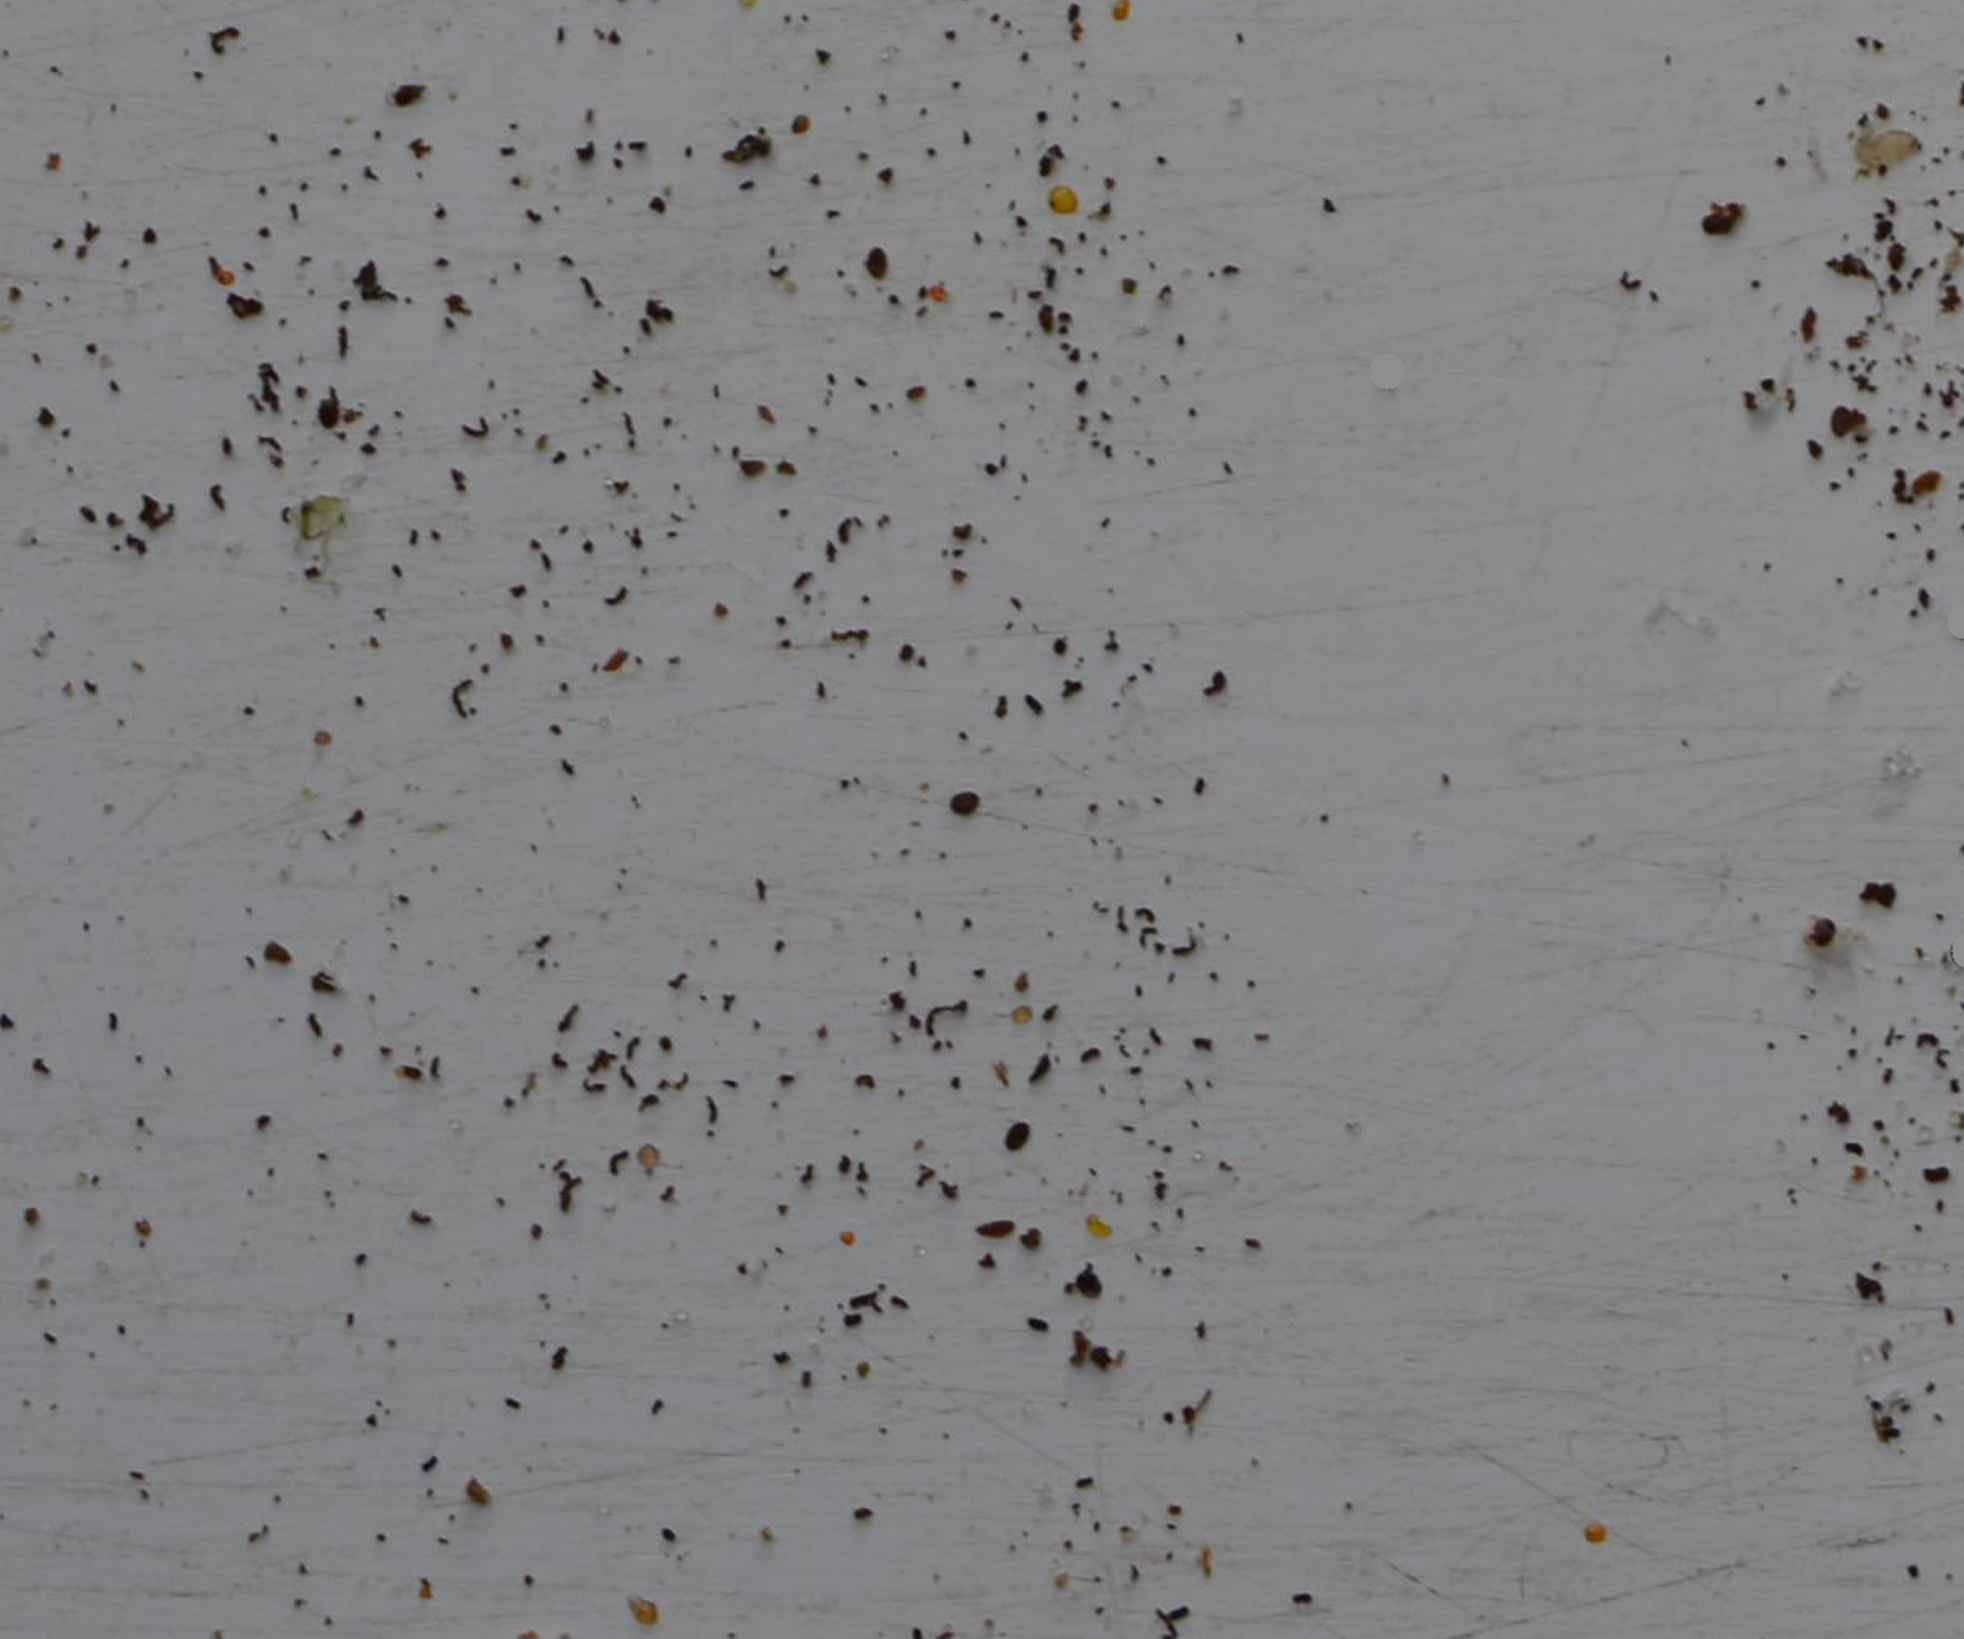Varroa: (936, 776, 975, 815), (860, 246, 896, 284), (1000, 1115, 1034, 1155), (1075, 1269, 1109, 1305), (313, 400, 347, 435), (1806, 912, 1842, 944), (1830, 408, 1864, 440)
